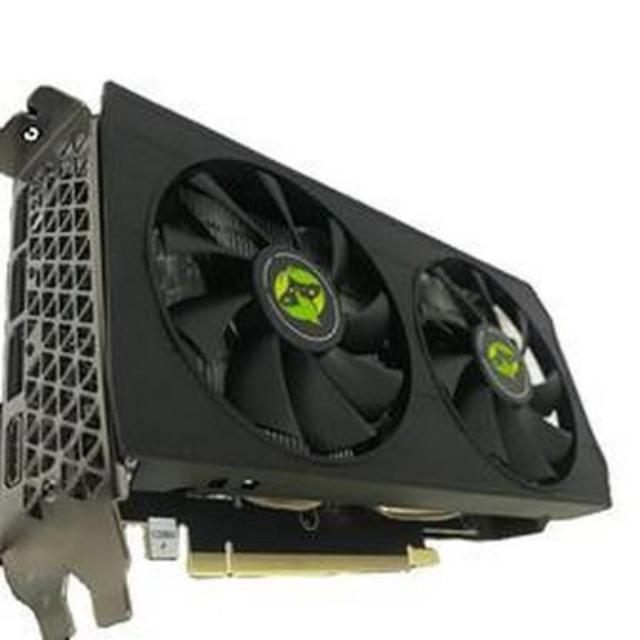GPU: (6, 78, 612, 612)
